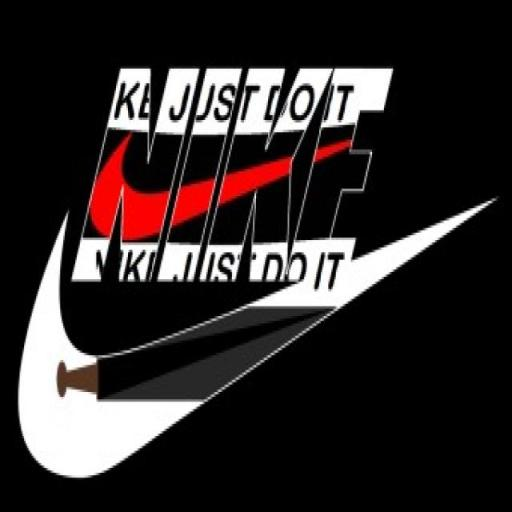Nike: (16, 238, 478, 482), (68, 61, 394, 287)
